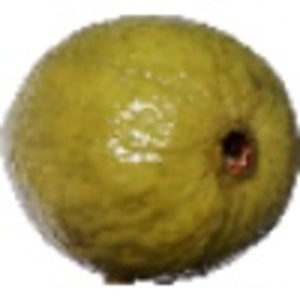goiaba: (5, 11, 296, 280)
